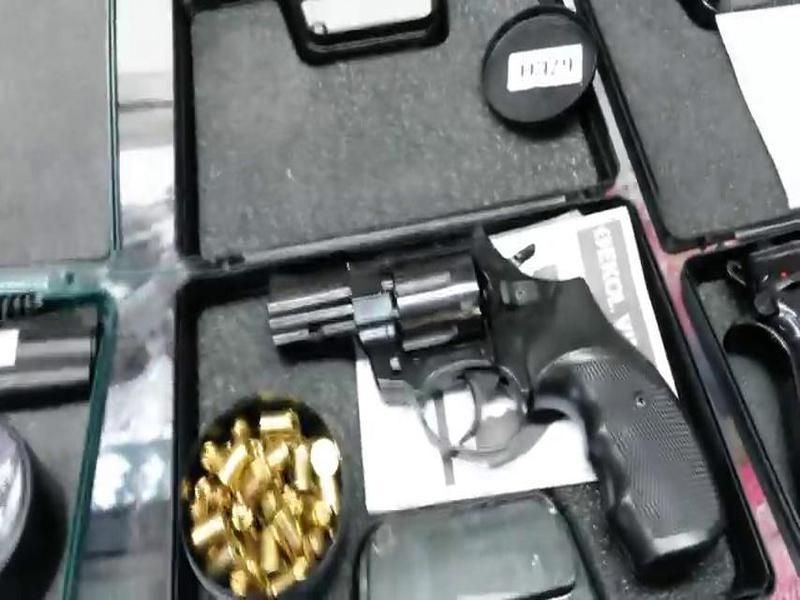Revolver: (251, 232, 737, 586)
